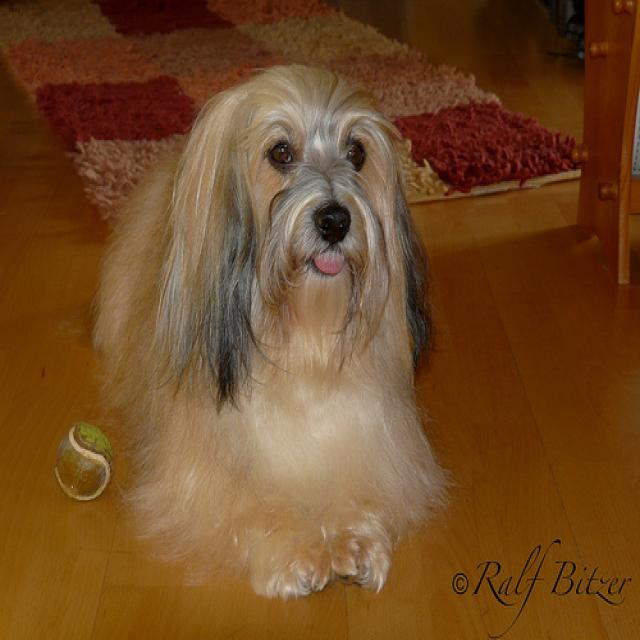dog-havanese: (83, 58, 454, 614)
